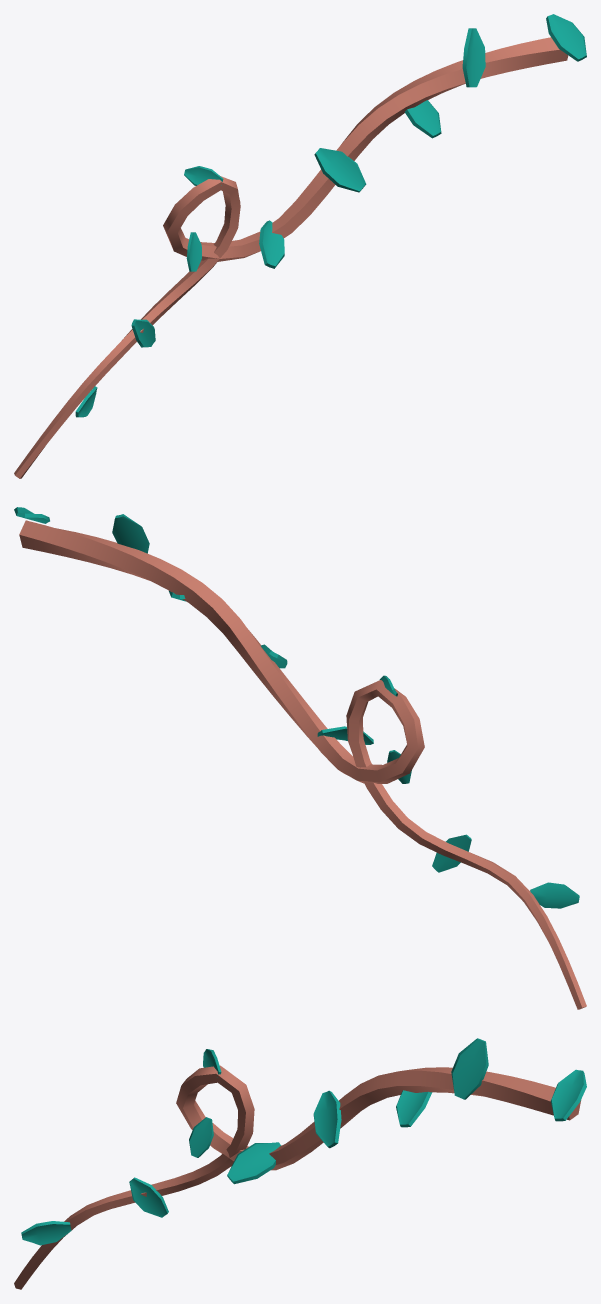
The model's file is SM_Vine4.fbx.
3 views of the same model, one above another, from view 1: azimuth 30°, elevation 25°; view 2: azimuth 150°, elevation 25°; view 3: azimuth 330°, elevation 25° (orthographic). The views are drawn at different scales.
Visible parts, largest first — view 1: Vine4; view 2: Vine4; view 3: Vine4.
Boxes of the visible parts, <box> form: Vine4: <box>14,14,586,478</box>; Vine4: <box>14,507,586,1009</box>; Vine4: <box>14,1038,586,1289</box>.
Bounding box in the file's own units: 73.48 × 44.69 × 8.73.
